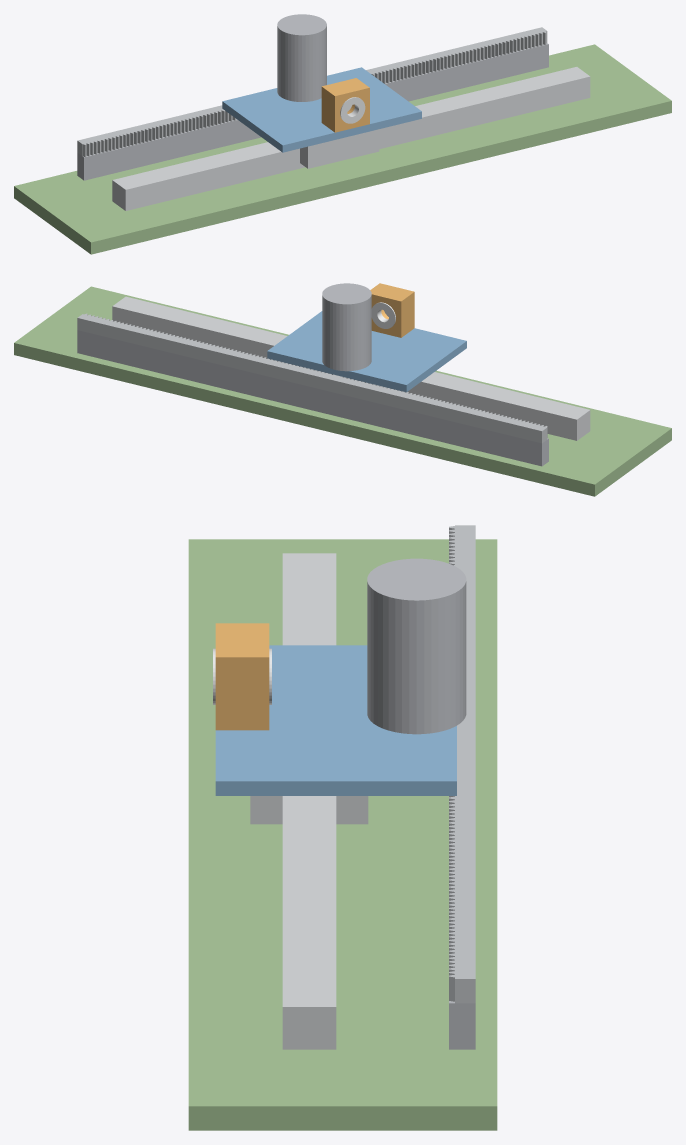
The model's file is step-11.glb.
3 views of the same model, one above another, from view 1: azimuth 30°, elevation 25°; view 2: azimuth 150°, elevation 25°; view 3: azimuth 270°, elevation 25° (orthographic). The views are drawn at different scales.
Visible parts, largest first — view 1: base-plate__mesh, rail__mesh, riser__mesh, cart__mesh, rack__mesh, motor__mesh, pivot__mesh, block__mesh, bearing-front__mesh; view 2: base-plate__mesh, riser__mesh, rail__mesh, rack__mesh, cart__mesh, motor__mesh, pivot__mesh, bearing-back__mesh; view 3: base-plate__mesh, cart__mesh, rail__mesh, motor__mesh, rack__mesh, pivot__mesh, block__mesh, riser__mesh.
Boxes of the visible parts, x1,y1,x2,y2 form: base-plate__mesh: (14, 44, 671, 254); rail__mesh: (112, 67, 590, 210); riser__mesh: (77, 43, 548, 180); cart__mesh: (222, 67, 421, 152); rack__mesh: (77, 27, 547, 157); motor__mesh: (277, 14, 326, 101); pivot__mesh: (321, 78, 369, 132); block__mesh: (300, 129, 379, 168); bearing-front__mesh: (340, 97, 365, 123); base-plate__mesh: (14, 286, 671, 496); riser__mesh: (77, 330, 548, 466); rail__mesh: (112, 296, 590, 440); rack__mesh: (77, 313, 547, 443); cart__mesh: (267, 311, 466, 392); motor__mesh: (322, 283, 371, 371); pivot__mesh: (370, 283, 414, 337); bearing-back__mesh: (371, 302, 395, 328); base-plate__mesh: (188, 539, 497, 1130); cart__mesh: (215, 645, 456, 795); rail__mesh: (282, 553, 336, 1049); motor__mesh: (367, 558, 466, 734); rack__mesh: (449, 525, 475, 1003); pivot__mesh: (215, 623, 269, 730); block__mesh: (250, 796, 368, 824); riser__mesh: (449, 1001, 475, 1049).
Bounding box in the file's own units: 0.5 × 0.101 × 0.115.
